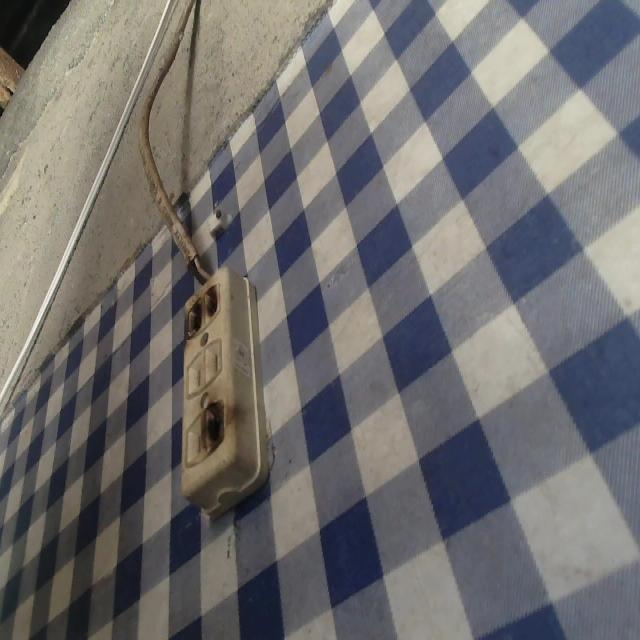-: (178, 278, 224, 342), (196, 397, 237, 459)
